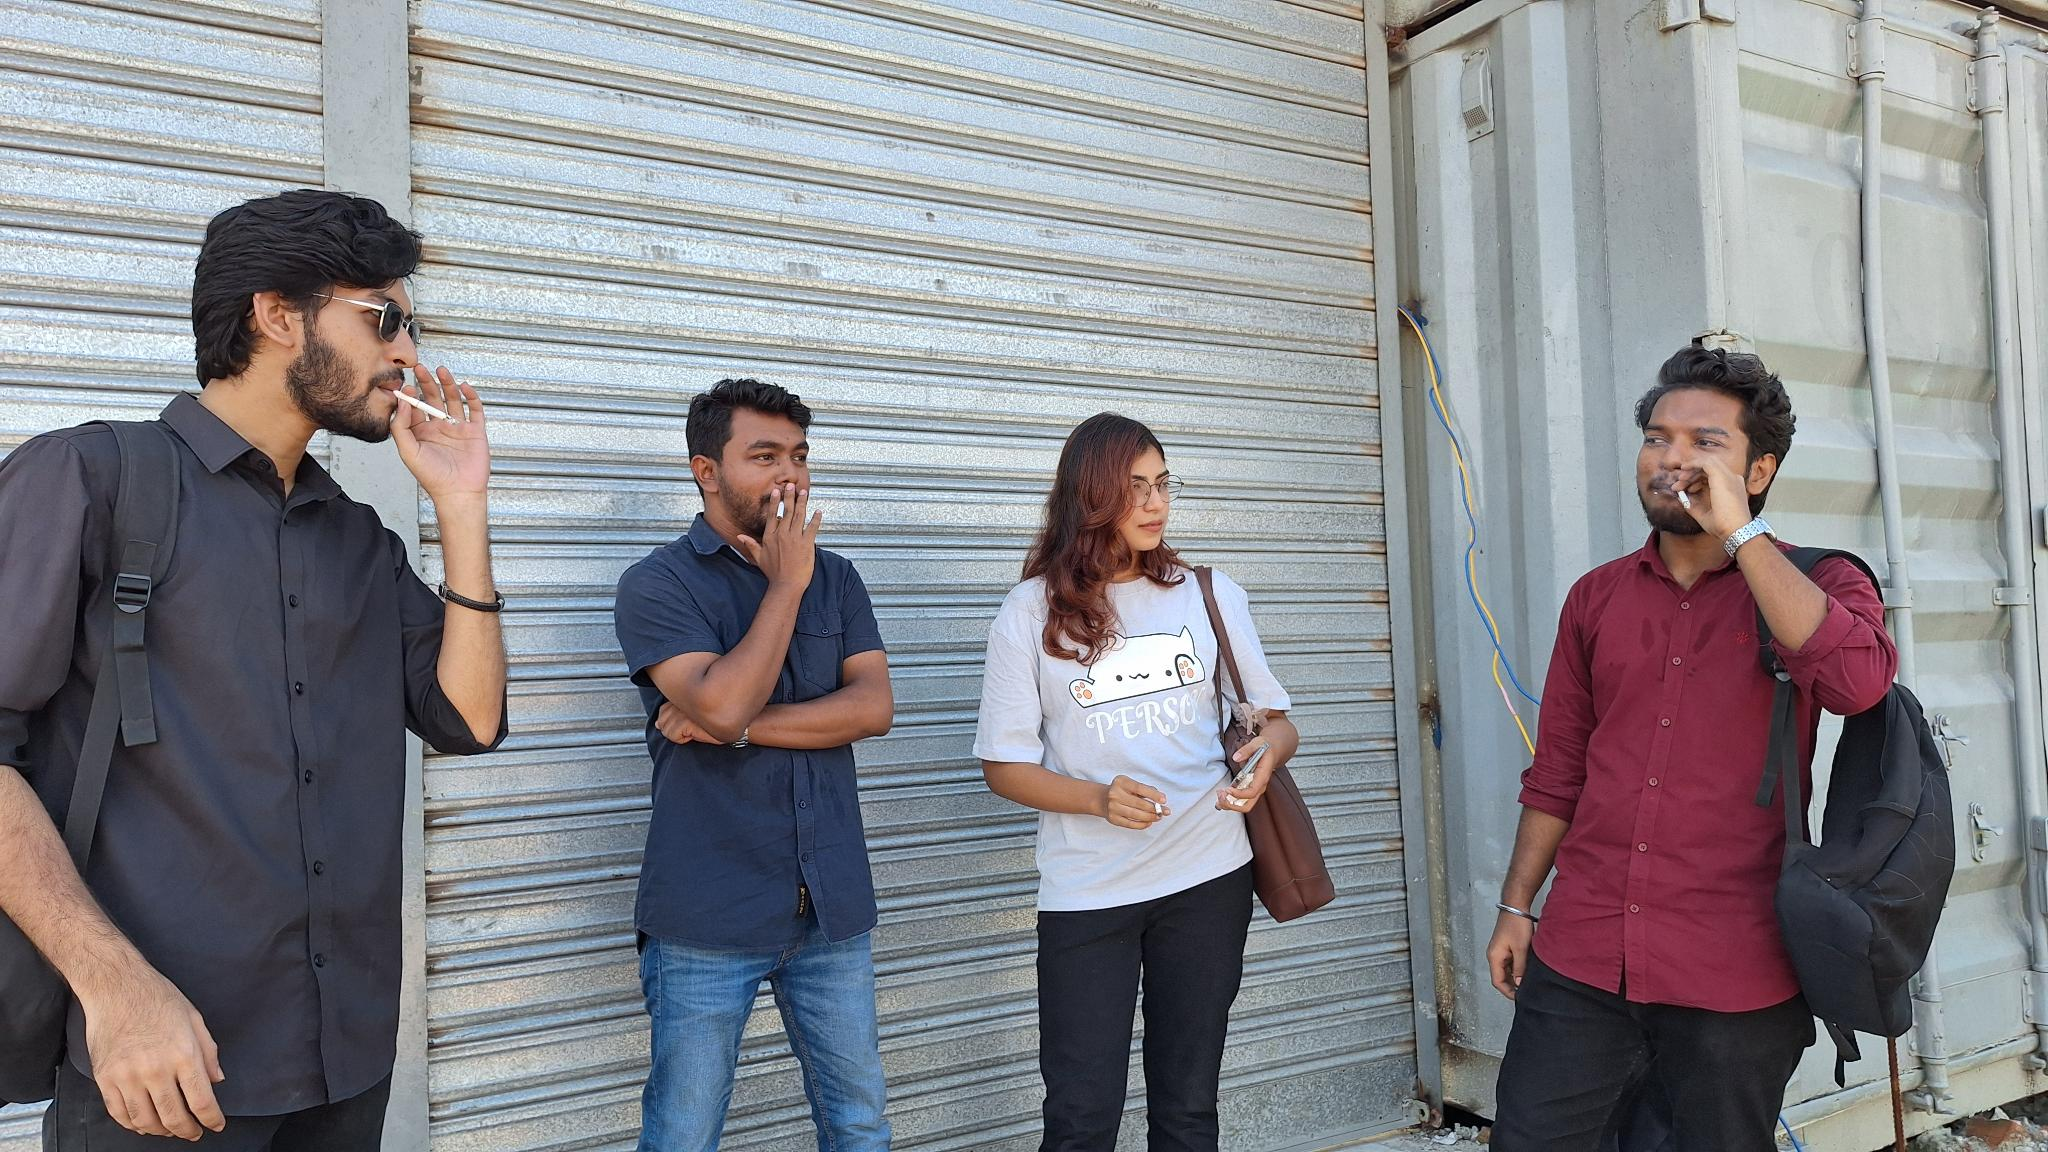cigarette: (391, 388, 461, 428), (1675, 489, 1694, 511), (775, 499, 786, 522), (1153, 800, 1165, 819)
smoker: (0, 190, 509, 1152), (1485, 347, 1957, 1152), (972, 414, 1336, 1152), (615, 378, 895, 1152)
